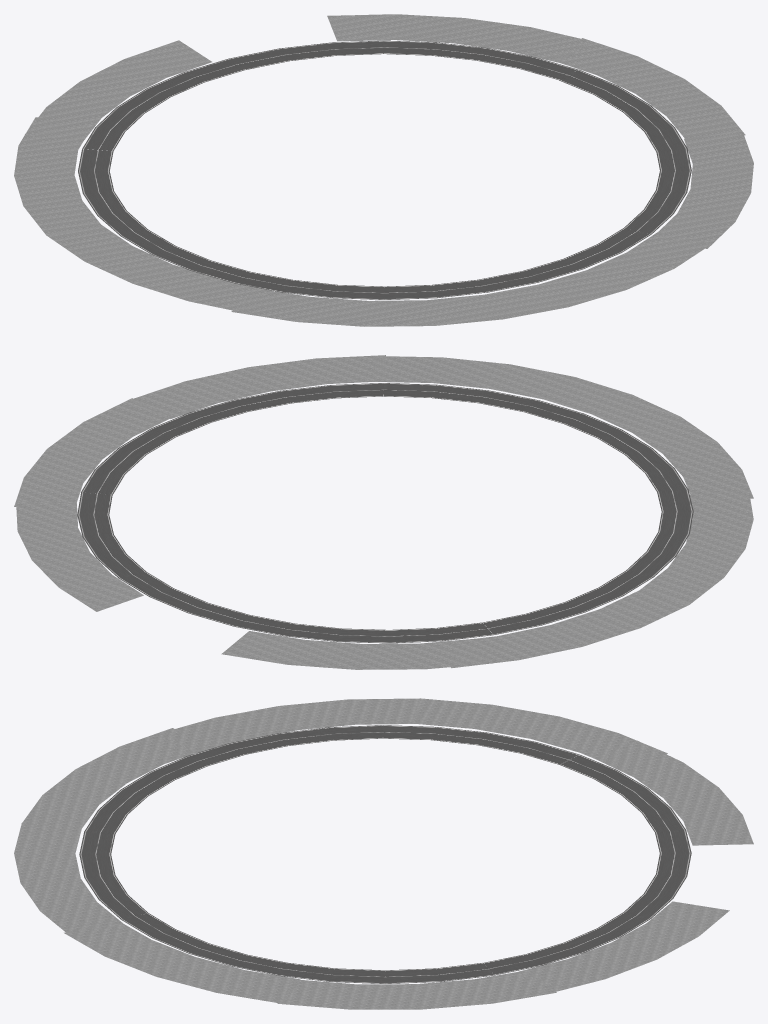
Rendered from RoundaboutRoad_and_Roundabout_Pavement.FBX.
The picture shows the model from 3 angles, top to bottom: view 1: azimuth 30°, elevation 25°; view 2: azimuth 150°, elevation 25°; view 3: azimuth 270°, elevation 25°; orthographic projection.
Parts seen in each view (by area): view 1: Plane027, Plane021, Plane026, Plane023, Plane028, Plane025, Plane029, Plane024, Plane040, Plane045, Plane042, Plane046 (+5 smaller); view 2: Plane027, Plane028, Plane023, Plane021, Plane025, Plane029, Plane026, Plane024, Plane040, Plane042, Plane045, Plane047 (+5 smaller); view 3: Plane029, Plane028, Plane025, Plane027, Plane023, Plane021, Plane026, Plane024, Plane040, Plane046, Plane047, Plane045 (+5 smaller).
Part boxes in pixels (x1,y1,x2,y2): Plane027: (485, 231, 711, 319); Plane021: (327, 14, 591, 62); Plane026: (231, 290, 504, 326); Plane023: (25, 40, 211, 140); Plane028: (658, 133, 753, 248); Plane025: (47, 224, 270, 313); Plane029: (551, 38, 745, 138); Plane024: (14, 117, 100, 235); Plane040: (559, 69, 687, 151); Plane045: (184, 40, 383, 82); Plane042: (478, 228, 651, 292); Plane046: (120, 229, 292, 292); Plane027: (373, 356, 631, 414); Plane028: (128, 355, 385, 418); Plane023: (221, 631, 493, 669); Plane021: (16, 501, 143, 611); Plane025: (640, 490, 753, 604); Plane029: (14, 398, 172, 507); Plane026: (592, 394, 753, 500); Plane024: (442, 589, 689, 668); Plane040: (81, 412, 210, 494); Plane042: (383, 383, 584, 423); Plane045: (119, 572, 294, 636); Plane047: (483, 570, 652, 634); Plane029: (277, 970, 556, 1009); Plane028: (64, 924, 300, 1003); Plane025: (158, 698, 419, 752); Plane027: (14, 823, 123, 936); Plane023: (595, 740, 753, 845); Plane021: (519, 901, 729, 994); Plane026: (21, 728, 206, 828); Plane024: (413, 698, 667, 769); Plane040: (276, 963, 494, 983); Plane046: (187, 725, 383, 765); Plane047: (381, 725, 579, 764); Plane045: (624, 830, 691, 918).
Bounding box in the file's own units: 540 × 0.000118 × 542.
2 materials, 2 textured.
